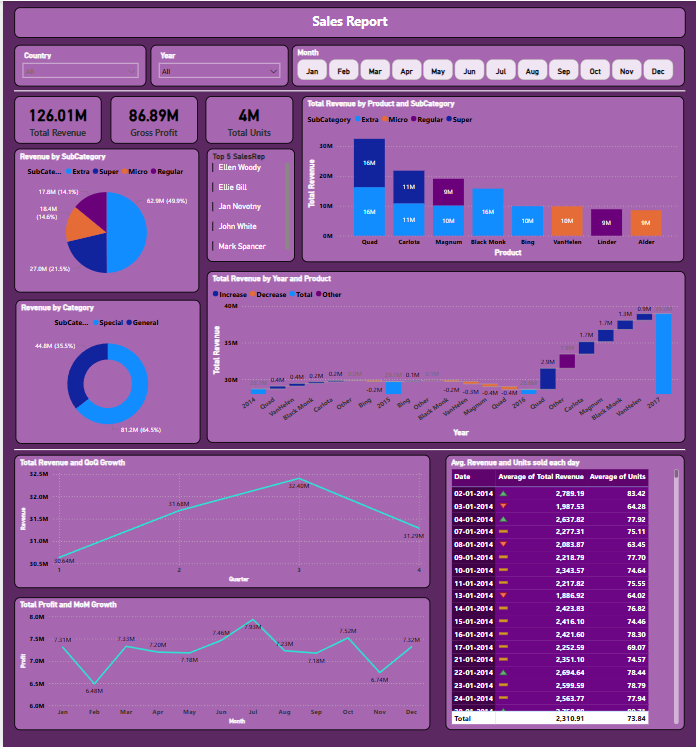

The page's visual inventory and layout, read from the dashboard file:
{"tool":"powerbi","page":{"name":"Page 1","canvas":[1300,1300],"ordinal":0},"visuals":[{"type":"textbox","box":[11.4,0,1268.6,42.9],"z":0},{"type":"slicer","fields":{"Values":["Geography.Country"]},"box":[0,42,280,66],"z":1000},{"type":"slicer","fields":{"Values":["DateMaster.Year"]},"box":[280.9,43.6,280.9,78.4],"z":2000},{"type":"slicer","fields":{"Values":["DateMaster.Month Name"]},"box":[561.8,34.8,738.2,78.4],"z":3000},{"type":"shape","box":[0,115,1279.7,12.1],"z":4000},{"type":"shape","box":[9.7,853.5,1279.7,12.1],"z":5000},{"type":"card","title":"Total Revenue","fields":{"Values":["Sales.Total Revenue"]},"box":[10.9,193.7,175.5,89.6],"z":6000},{"type":"card","title":"Total Revenue","fields":{"Values":["Sales.Gross Profit"]},"box":[193.7,193.7,175.5,89.6],"z":7000},{"type":"card","title":"Total Revenue","fields":{"Values":["Sales.Units"]},"box":[381.4,193.7,170.7,89.6],"z":8000},{"type":"shape","box":[542.4,193.7,19.4,312.3],"z":9000},{"type":"pieChart","title":"Total Revenue by SubCategory","fields":{"Y":["Sales.Total Revenue"],"Category":["Sub categories.SubCategory Name"]},"box":[12.1,293,347.5,271.2],"z":10000},{"type":"donutChart","title":"Total Revenue by SubCategory","fields":{"Y":["Sales.Total Revenue"],"Category":["Categories.Category"]},"box":[12.1,573.8,347.5,271.2],"z":11000},{"type":"multiRowCard","title":"Top 5 SalesRep","fields":{"Values":["Sales rep.Sales Rep Name"]},"box":[381.4,293,165.9,213.1],"z":12000},{"type":"waterfallChart","fields":{"Category":["DateMaster.Year"],"Breakdown":["Product.ProductName"],"Y":["Sales.Total Revenue"]},"box":[381.4,523,898.3,322],"z":13000},{"type":"columnChart","fields":{"Y":["Sales.Total Revenue"],"Series":["Sub categories.SubCategory Name"],"Category":["Product.ProductName"]},"box":[561.7,193.7,717.9,312.3],"z":14000}]}

Visuals, with their boxes in screenshot pixels (x1, y1, x2, y2):
textbox: rect(2, 0, 695, 6)
slicer - Geography.Country: rect(0, 5, 149, 42)
slicer - DateMaster.Year: rect(150, 6, 304, 49)
slicer - DateMaster.Month Name: rect(304, 2, 695, 44)
shape: rect(0, 45, 695, 52)
shape: rect(1, 450, 695, 457)
"Total Revenue" card: rect(2, 89, 98, 138)
"Total Revenue" card: rect(102, 89, 198, 138)
"Total Revenue" card: rect(205, 89, 299, 138)
shape: rect(293, 89, 304, 260)
"Total Revenue by SubCategory" pieChart: rect(3, 143, 193, 292)
"Total Revenue by SubCategory" donutChart: rect(3, 297, 193, 445)
"Top 5 SalesRep" multiRowCard: rect(205, 143, 296, 260)
waterfallChart - DateMaster.Year x Product.ProductName: rect(205, 269, 695, 445)
columnChart - Sales.Total Revenue x Sub categories.SubCategory Name: rect(304, 89, 695, 260)
